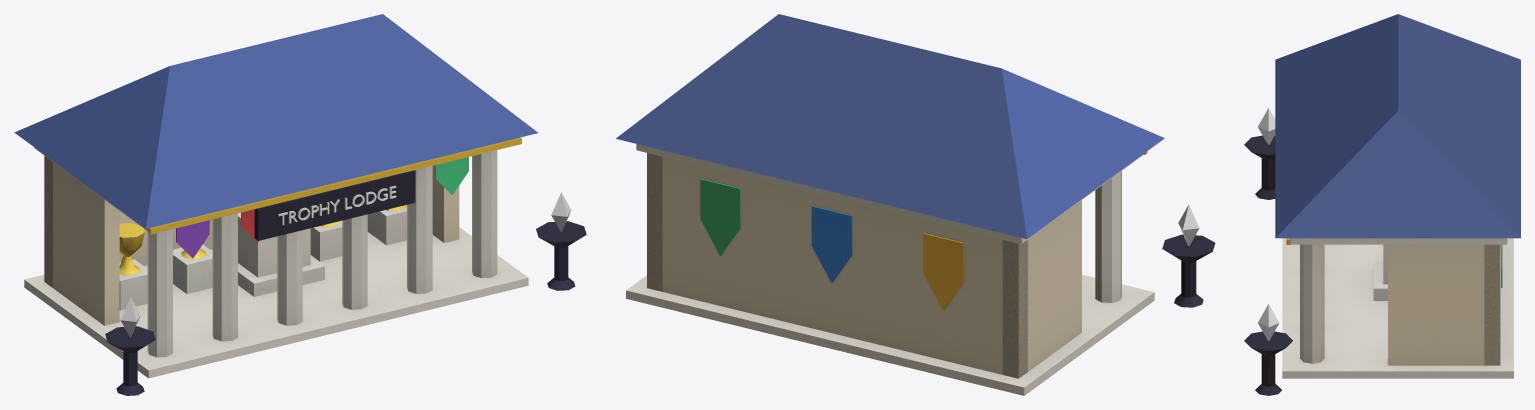
File: home_lodge_3.fbx
3 renders of one model, left to right at view 1: azimuth 30°, elevation 25°; view 2: azimuth 150°, elevation 25°; view 3: azimuth 270°, elevation 25°, orthographic. The views are drawn at different scales.
Visible parts, largest first — view 1: home_lodge_3_body, home_lodge_3_body_glow; view 2: home_lodge_3_body; view 3: home_lodge_3_body, home_lodge_3_body_glow.
Part boxes in pixels (x1,y1,x2,y2): home_lodge_3_body: (14,14,586,395); home_lodge_3_body_glow: (120,192,571,337); home_lodge_3_body: (616,14,1215,395); home_lodge_3_body: (1244,14,1520,395); home_lodge_3_body_glow: (1258,108,1279,340).
Size of the model in its own units: 3760 by 1860 by 2030.
2 materials, 1 textured.
